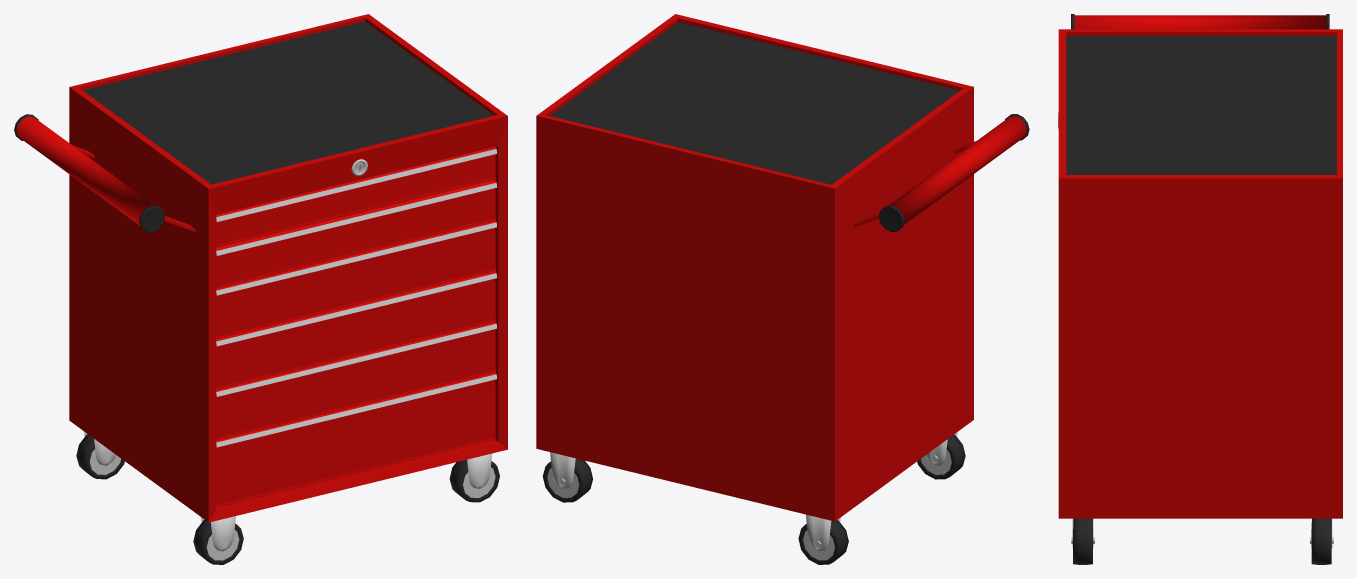
Rendered from Werkzeugschrank_Colored(1).fbx.
3 views of the same model, side by side, from view 1: azimuth 30°, elevation 25°; view 2: azimuth 150°, elevation 25°; view 3: azimuth 270°, elevation 25° (orthographic). The views are drawn at different scales.
Parts seen in each view (by area): view 1: Cube; view 2: Cube; view 3: Cube.
Boxes of the visible parts, x1,y1,x2,y2 form: Cube: [14, 14, 507, 564]; Cube: [536, 14, 1029, 564]; Cube: [1058, 14, 1342, 564].
Bounding box in the file's own units: 241 × 247 × 162.
